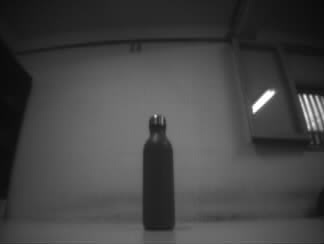Bottle: (142, 113, 175, 231)
